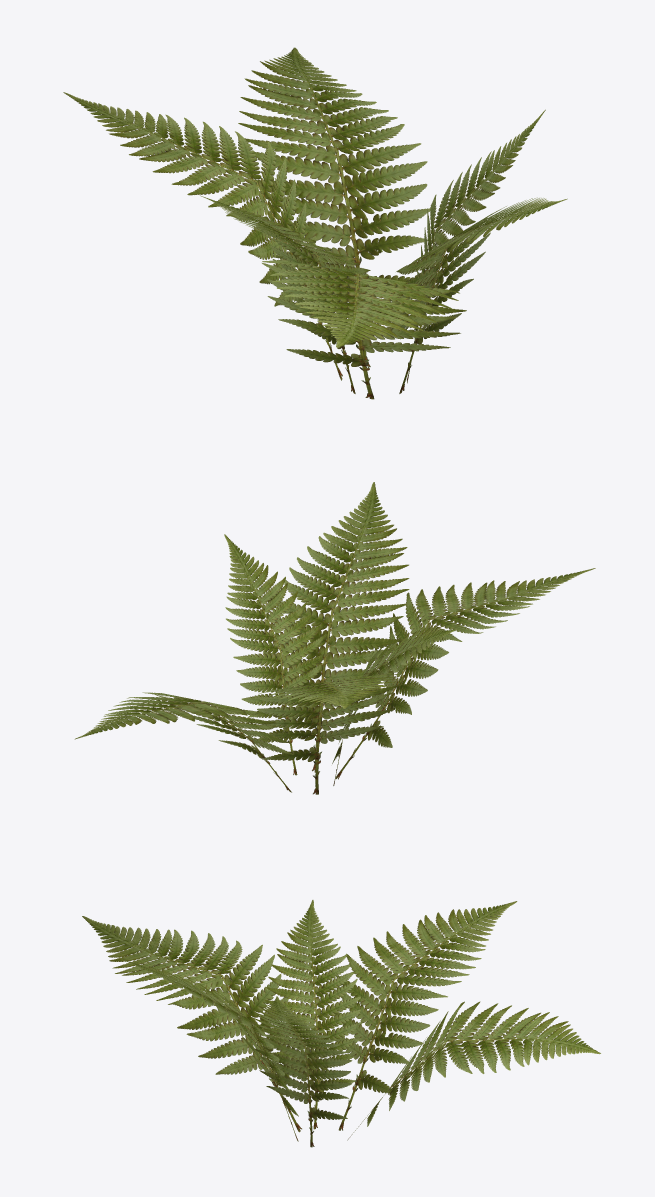
Rendered from fern_small_a_lod2.gltf.
3 renders of one model, top to bottom at view 1: azimuth 30°, elevation 25°; view 2: azimuth 150°, elevation 25°; view 3: azimuth 270°, elevation 25°, orthographic. The views are drawn at different scales.
Visible parts, largest first — view 1: fern_small_a_LOD2; view 2: fern_small_a_LOD2; view 3: fern_small_a_LOD2.
Part boxes in pixels (x1,y1,x2,y2): fern_small_a_LOD2: [63, 47, 567, 399]; fern_small_a_LOD2: [74, 482, 595, 794]; fern_small_a_LOD2: [82, 900, 600, 1147].
Size of the model in its own units: 0.5552 by 0.3 by 0.8158.
Materials: 1 (1 with a texture image).
